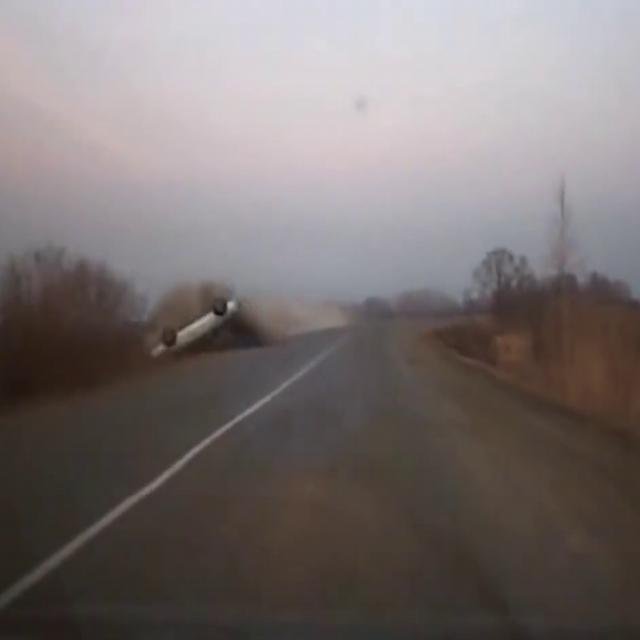accident: (140, 276, 247, 366)
